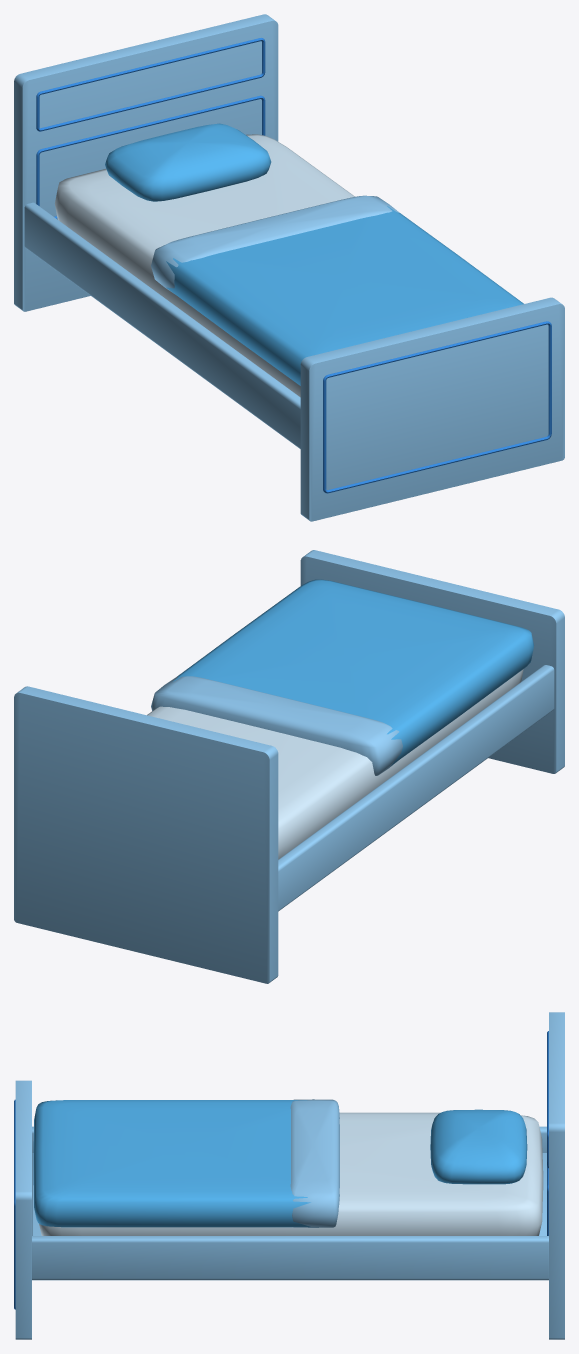
The model's file is cama_solteiro_painel_azul.glb.
3 renders of one model, top to bottom at view 1: azimuth 30°, elevation 25°; view 2: azimuth 150°, elevation 25°; view 3: azimuth 270°, elevation 25°, orthographic. The views are drawn at different scales.
Parts seen in each view (by area): view 1: cama_solteiro_painel_azul; view 2: cama_solteiro_painel_azul; view 3: cama_solteiro_painel_azul.
Boxes of the visible parts, x1=… form: cama_solteiro_painel_azul: x1=14, y1=14, x2=564, y2=521; cama_solteiro_painel_azul: x1=14, y1=550, x2=564, y2=983; cama_solteiro_painel_azul: x1=14, y1=1012, x2=564, y2=1339.
Size of the model in its own units: 1.02 by 0.88 by 2.05.
Materials: 1 (1 with a texture image).
